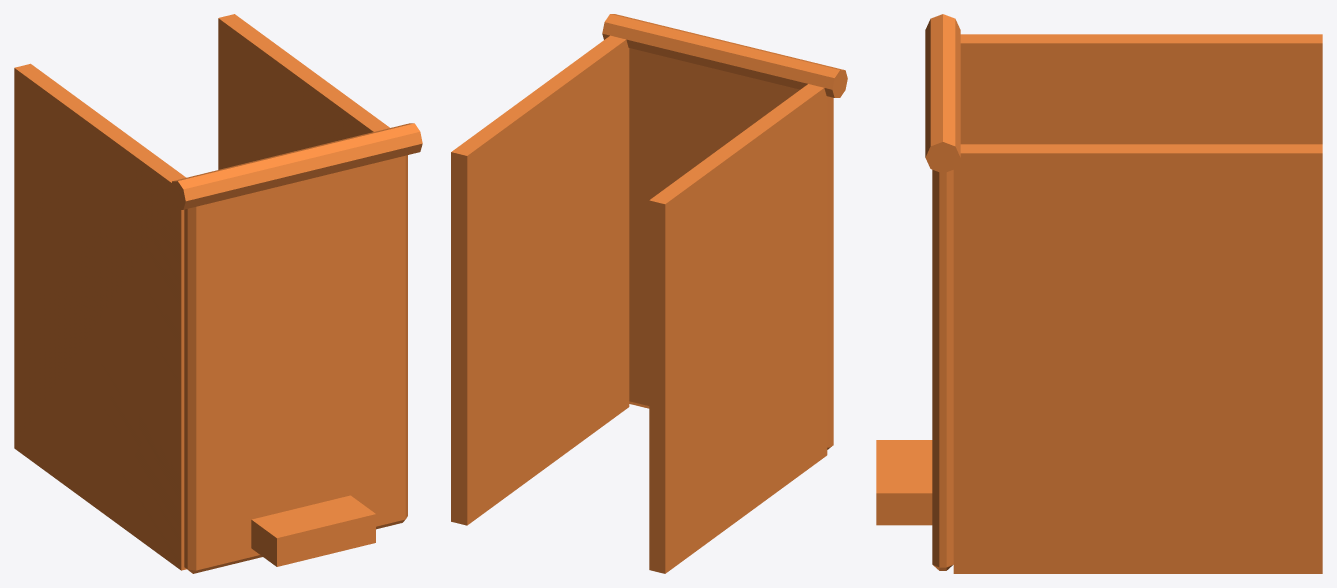
File: guarded_toggle_cap.glb
3 renders of one model, left to right at view 1: azimuth 30°, elevation 25°; view 2: azimuth 150°, elevation 25°; view 3: azimuth 270°, elevation 25°, orthographic. The views are drawn at different scales.
Visible parts, largest first — view 1: GuardedToggleCap; view 2: GuardedToggleCap; view 3: GuardedToggleCap.
Part boxes in pixels (x1,y1,x2,y2): GuardedToggleCap: [14, 14, 422, 573]; GuardedToggleCap: [451, 14, 847, 573]; GuardedToggleCap: [876, 14, 1322, 573].
Bounding box in the file's own units: 0.043 × 0.0685 × 0.0635.
